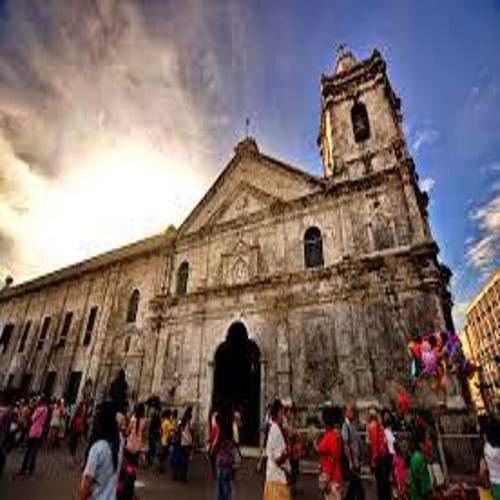Sto. Nino Basilica Church: (155, 35, 454, 473)
